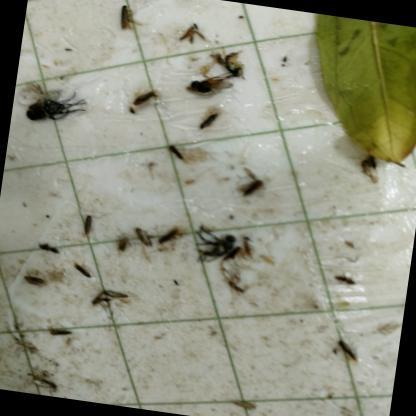prays_oleae: (9, 60, 93, 140), (182, 64, 236, 113), (235, 171, 265, 202), (115, 0, 138, 40), (128, 83, 158, 113), (93, 288, 127, 314), (110, 230, 131, 268), (336, 337, 362, 366), (156, 228, 185, 249), (80, 208, 98, 240), (197, 114, 223, 136), (132, 219, 151, 247), (70, 260, 92, 284), (45, 322, 71, 342), (34, 239, 58, 260), (224, 276, 243, 301), (22, 270, 46, 287), (334, 271, 356, 287), (166, 144, 184, 162), (338, 405, 366, 416)
